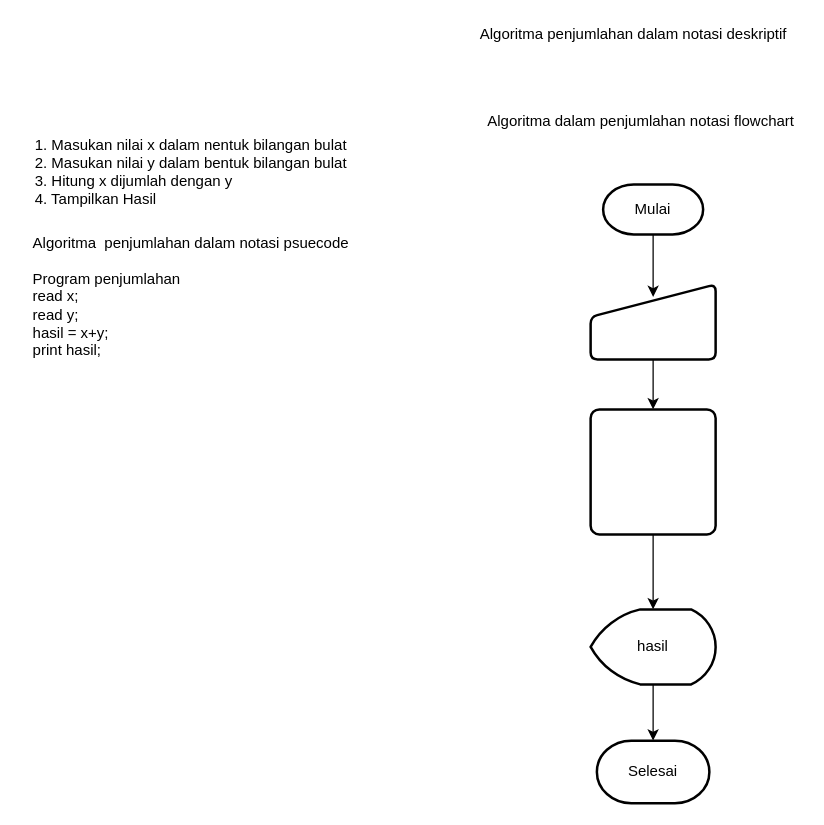
The diagram is 824 pixels wide and 825 high, and some of its shapes have lost their labels. The centre of each missing label's shape, as x and y in pixels:
hasil = x + y: point (652, 471)
x, y: point (652, 321)
